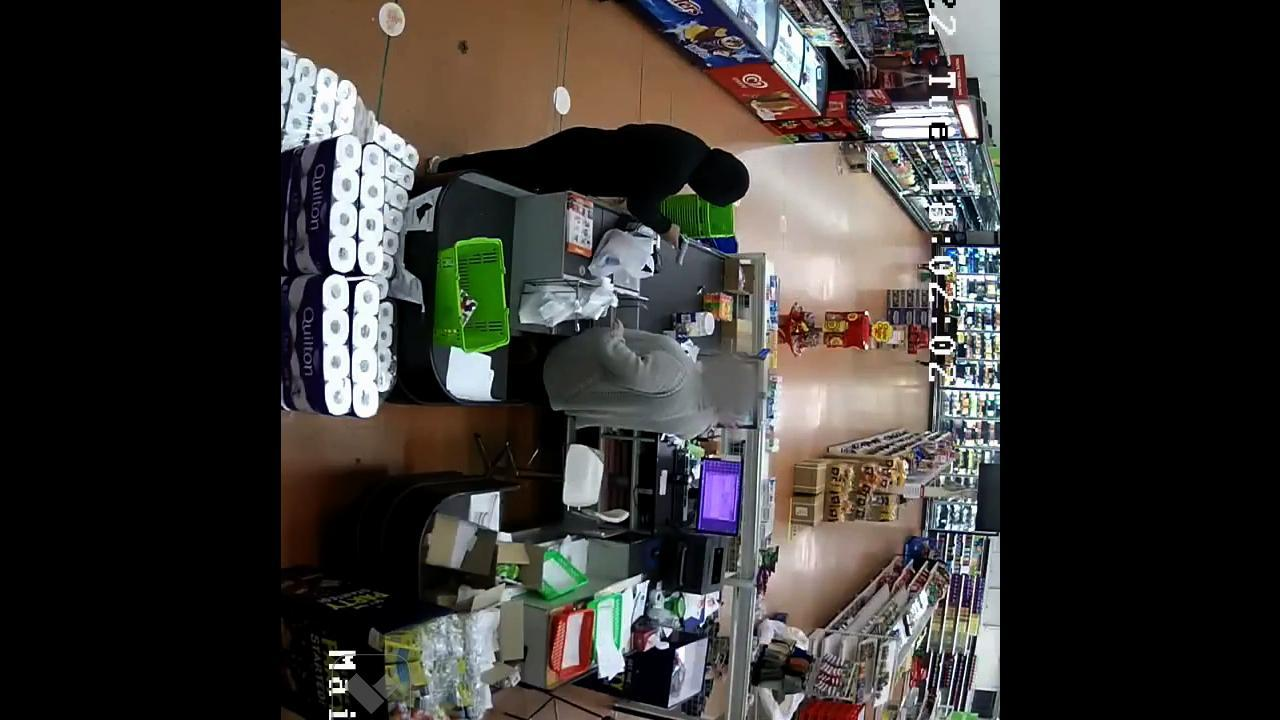gun: (665, 226, 699, 270)
